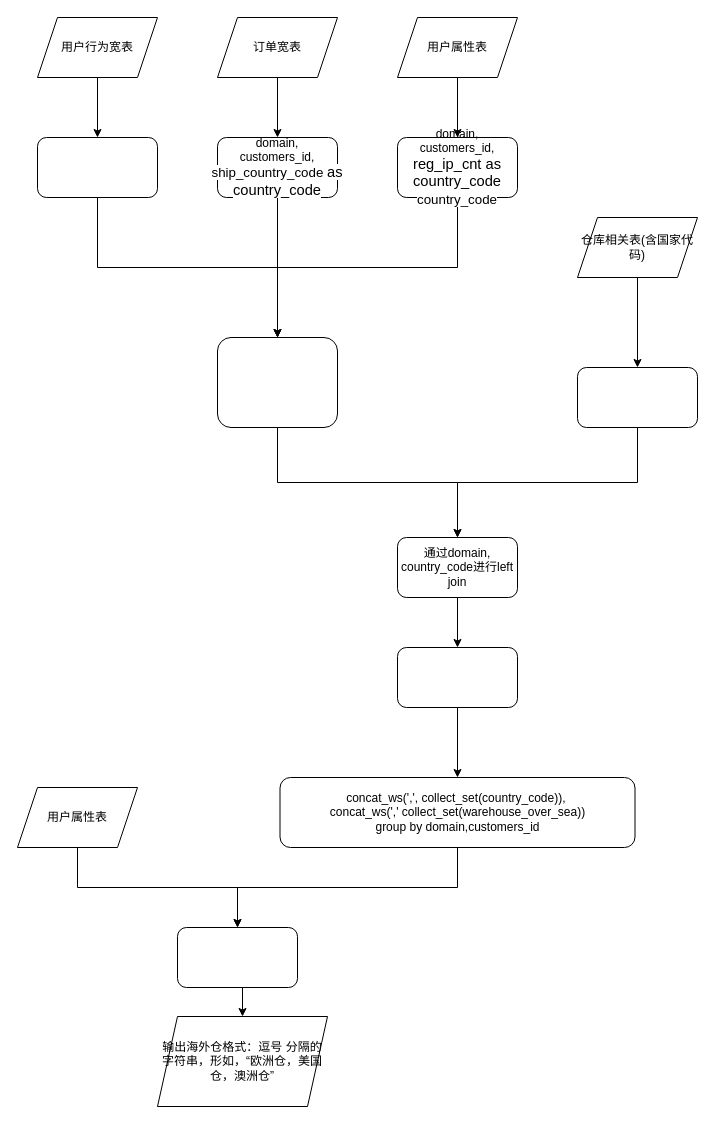
Image size: 715x1124. Some labels were removed from this diagram. Each missing label, with the centre of its shape:
"domain customers_id, country_code as country_code view" belongs at point 97,167.
"国家代码合并去重 union group by domain, customers_id, country_code" belongs at point 277,382.
"如有必要，通过lateral view 和 explode打散数组" belongs at point 637,397.
"拿到海外仓 domain, customers_id, country_code, warehouse_over_sea" belongs at point 457,677.
"通过domain,customers_id进行left join" belongs at point 237,957.
